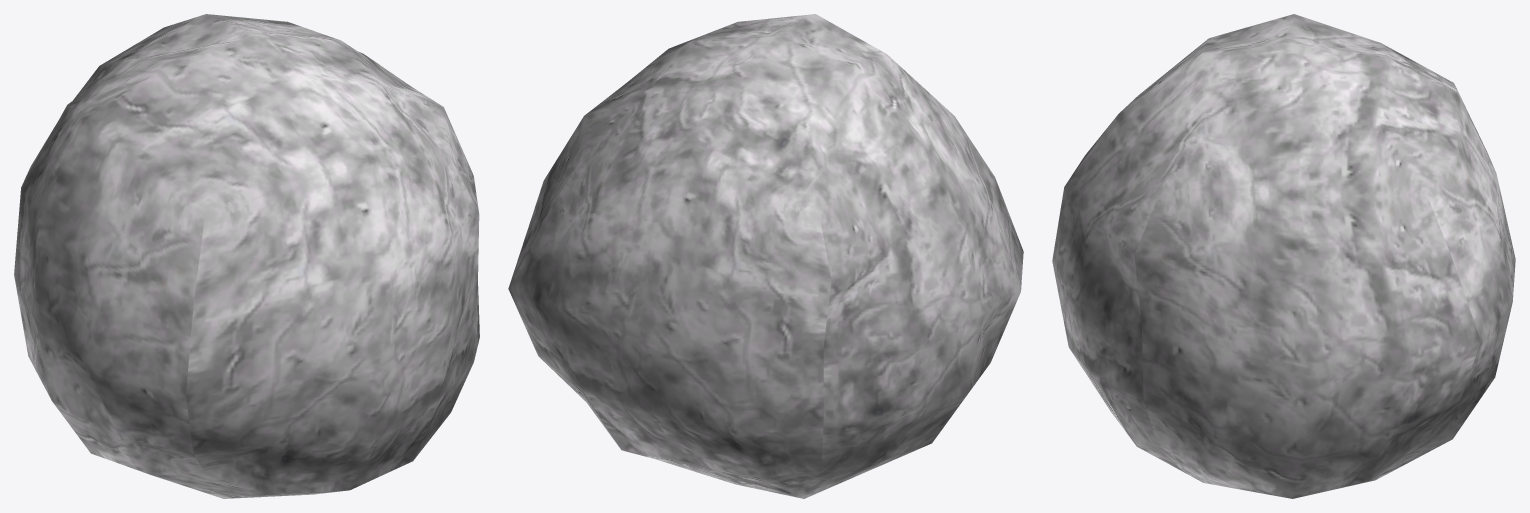
The model's file is INST_TROLLHOLE_ROLLINGROCKA.obj.
3 renders of one model, left to right at view 1: azimuth 30°, elevation 25°; view 2: azimuth 150°, elevation 25°; view 3: azimuth 270°, elevation 25°, orthographic. The views are drawn at different scales.
Visible parts, largest first — view 1: ngRockA_Lod1_01; view 2: ngRockA_Lod1_01; view 3: ngRockA_Lod1_01.
Part boxes in pixels (box(x1,y1,x2,y2)): ngRockA_Lod1_01: box(14, 14, 479, 498); ngRockA_Lod1_01: box(508, 14, 1023, 498); ngRockA_Lod1_01: box(1052, 14, 1515, 498).
Size of the model in its own units: 179 by 179 by 179.
